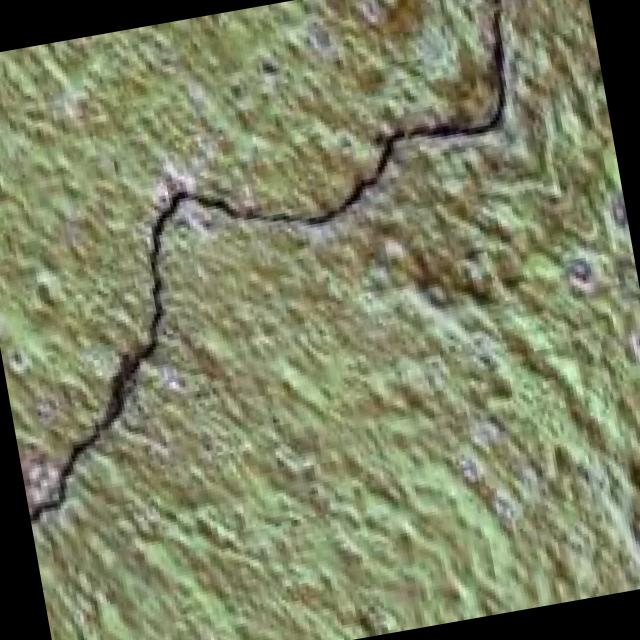crack: (0, 0, 605, 529)
